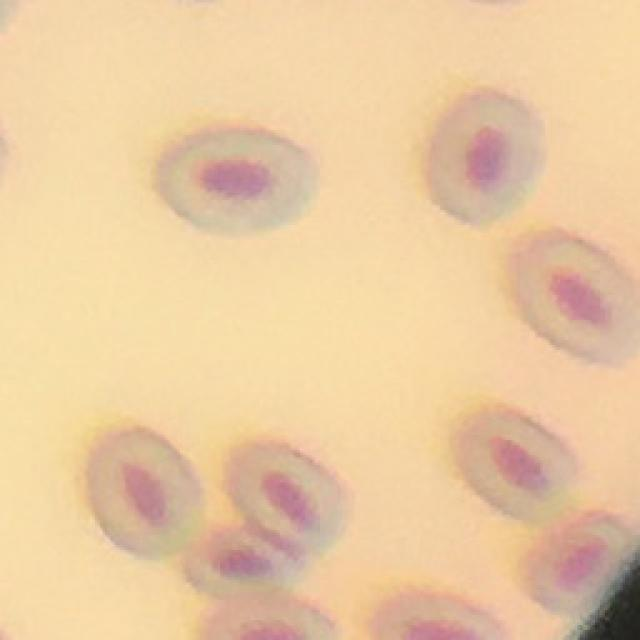RBC: (160, 131, 314, 235), (518, 237, 640, 365), (428, 94, 542, 228), (88, 431, 201, 560), (455, 413, 575, 520), (230, 447, 344, 552), (528, 516, 635, 615), (185, 525, 308, 596), (372, 593, 504, 640), (205, 598, 338, 639)
